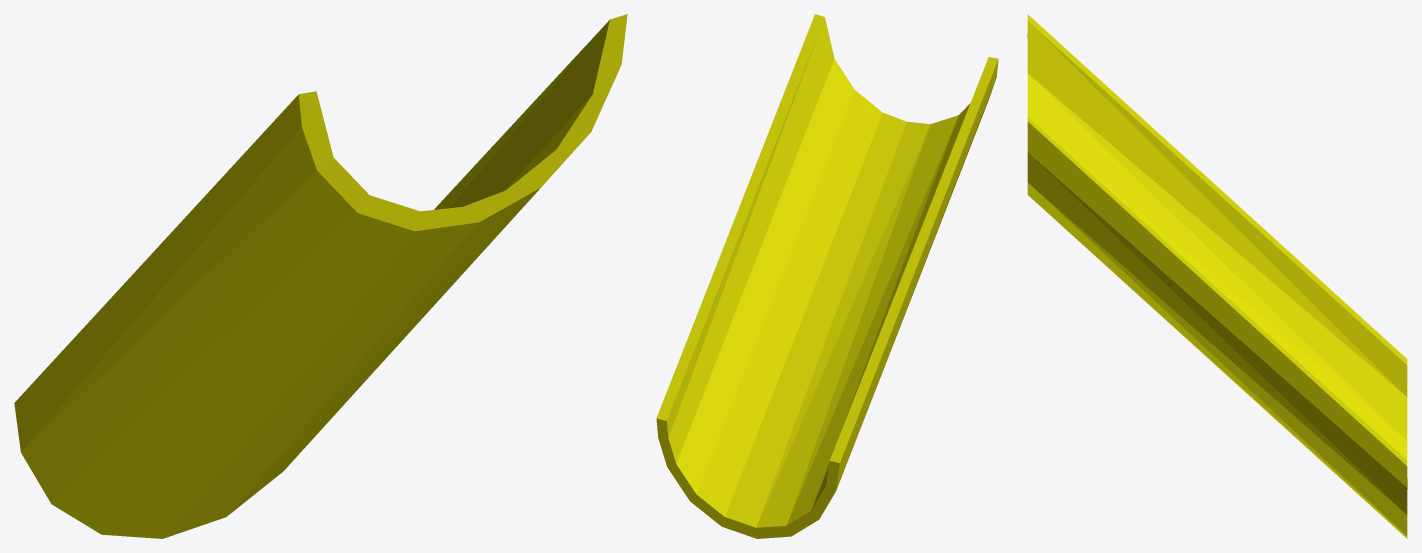
Rendered from pipe incline 3 collision.fbx.
3 renders of one model, left to right at view 1: azimuth 30°, elevation 25°; view 2: azimuth 150°, elevation 25°; view 3: azimuth 270°, elevation 25°, orthographic. The views are drawn at different scales.
Visible parts, largest first — view 1: pipe incline 3 collision; view 2: pipe incline 3 collision; view 3: pipe incline 3 collision.
Boxes of the visible parts, x1,y1,x2,y2 form: pipe incline 3 collision: [14, 14, 627, 538]; pipe incline 3 collision: [656, 14, 998, 538]; pipe incline 3 collision: [1027, 14, 1407, 538].
Bounding box in the file's own units: 100 × 200 × 150.
